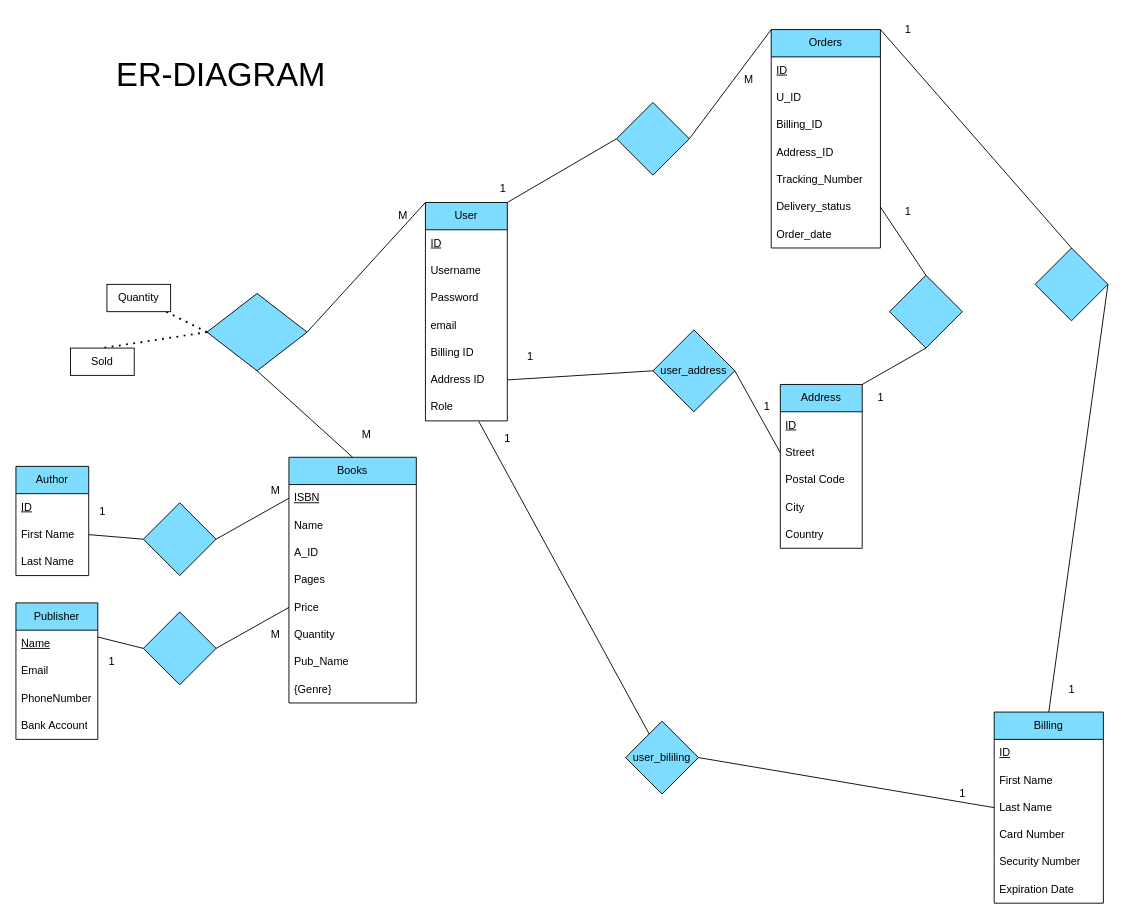
Some shapes in this 1125 by 919 pixel diagram are drawn without their labels. Here are the shapes that lost their labels. From the top down, the centre of each, then its label:
At (652,138): "place_order".
At (1071,284): "order_billing".
At (925,311): "shipping_info".
At (256,332): "shopping_cart".
At (179,539): "writes".
At (179,648): "publishes".
